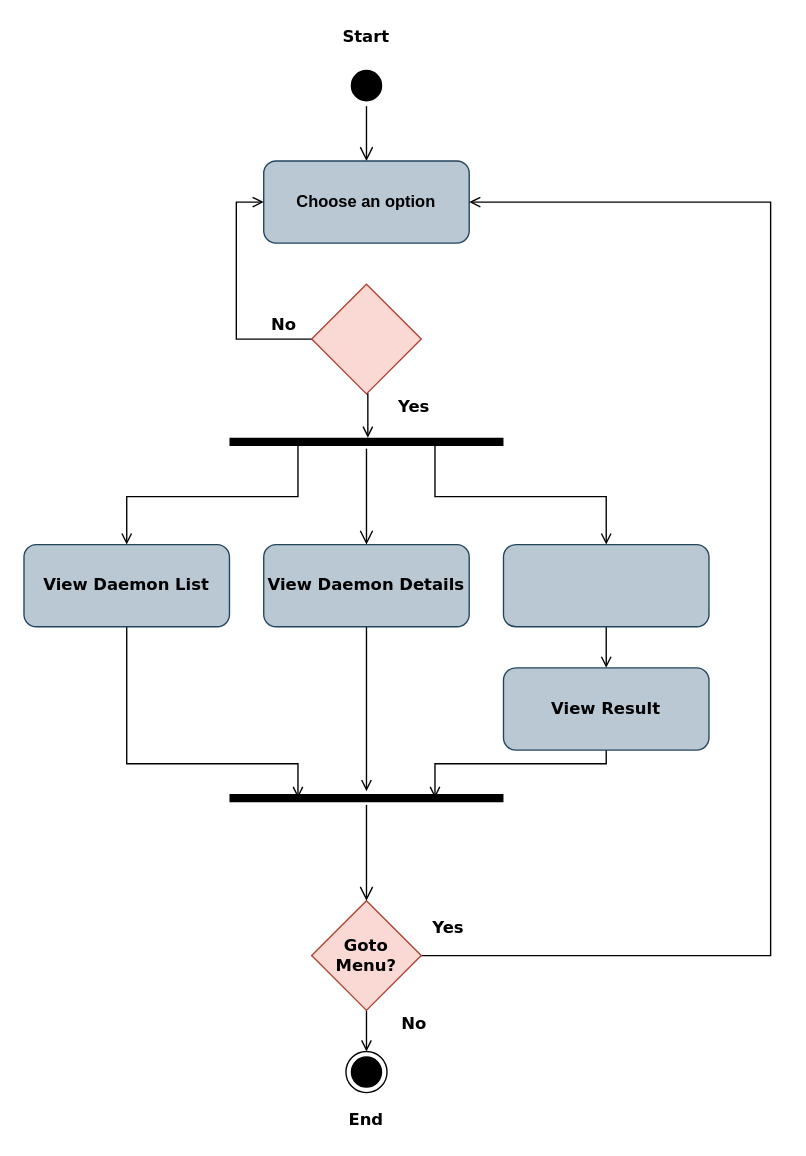
This 806x1156 diagram has some shape labels left out. Here are the shapes that lost their labels. From the top down, the centre of each, then its label:
At point (365, 338): "Valid option?".
At point (605, 585): "Take Quiz".
